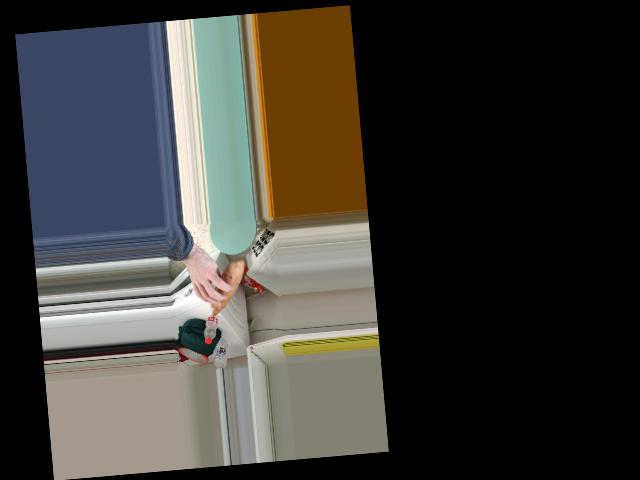sweet_potato: (201, 267, 247, 315)
